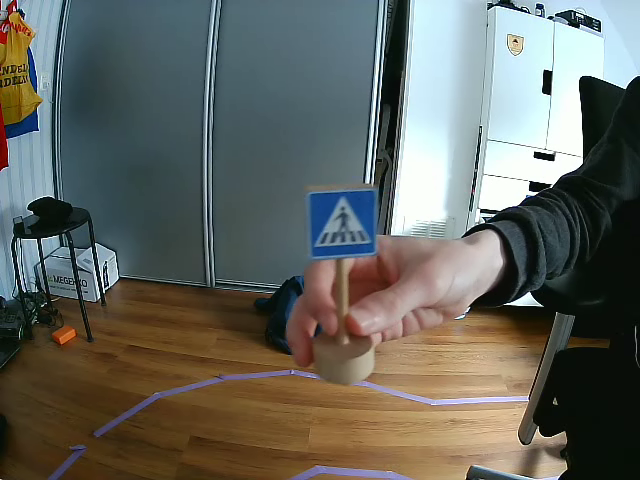zebrapad: (311, 189, 376, 260)
